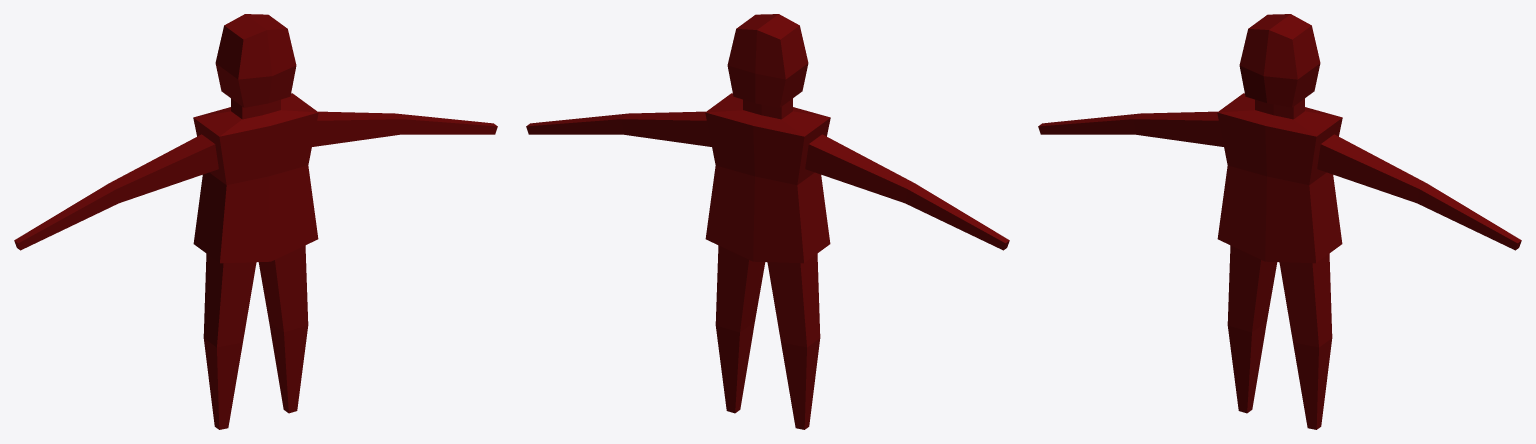
Rendered from Drenched.glb.
The picture shows the model from 3 angles, left to right: view 1: azimuth 30°, elevation 25°; view 2: azimuth 150°, elevation 25°; view 3: azimuth 330°, elevation 25°; orthographic projection.
Parts seen in each view (by area): view 1: Cube; view 2: Cube; view 3: Cube.
Boxes of the visible parts, box(x1,y1,x2,y2) form: Cube: box(14, 14, 497, 429); Cube: box(526, 14, 1009, 429); Cube: box(1038, 14, 1521, 429).
Size of the model in its own units: 9.66 by 7.64 by 1.09.
